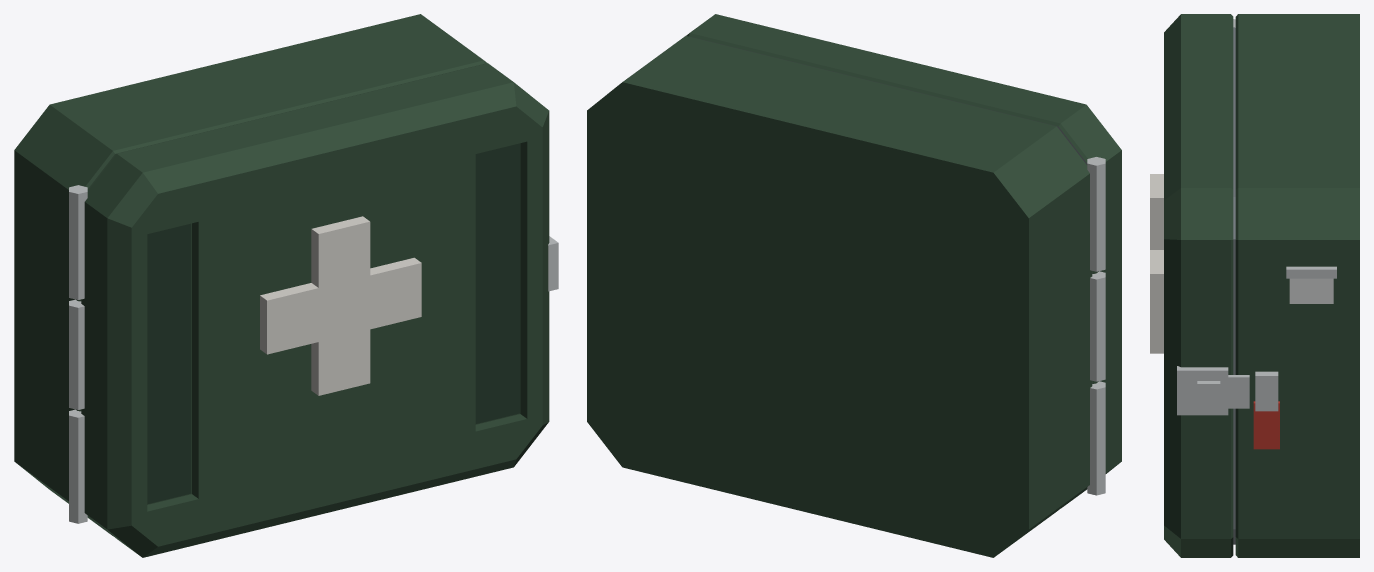
Rendered from wall-first-aid-box-95c087.glb.
The picture shows the model from 3 angles, left to right: view 1: azimuth 30°, elevation 25°; view 2: azimuth 150°, elevation 25°; view 3: azimuth 270°, elevation 25°; orthographic projection. The views are drawn at different scales.
Visible parts, largest first — view 1: lid, wall-first-aid-box; view 2: wall-first-aid-box, lid; view 3: wall-first-aid-box, lid.
Part boxes in pixels (left/top/right/bottom): lid: left=69, top=63, right=558, bottom=557; wall-first-aid-box: left=14, top=14, right=487, bottom=535; wall-first-aid-box: left=587, top=36, right=1105, bottom=557; lid: left=686, top=14, right=1121, bottom=507; wall-first-aid-box: left=1235, top=14, right=1359, bottom=557; lid: left=1150, top=14, right=1249, bottom=557.
Size of the model in its own units: 0.3165 by 0.25 by 0.1285.
